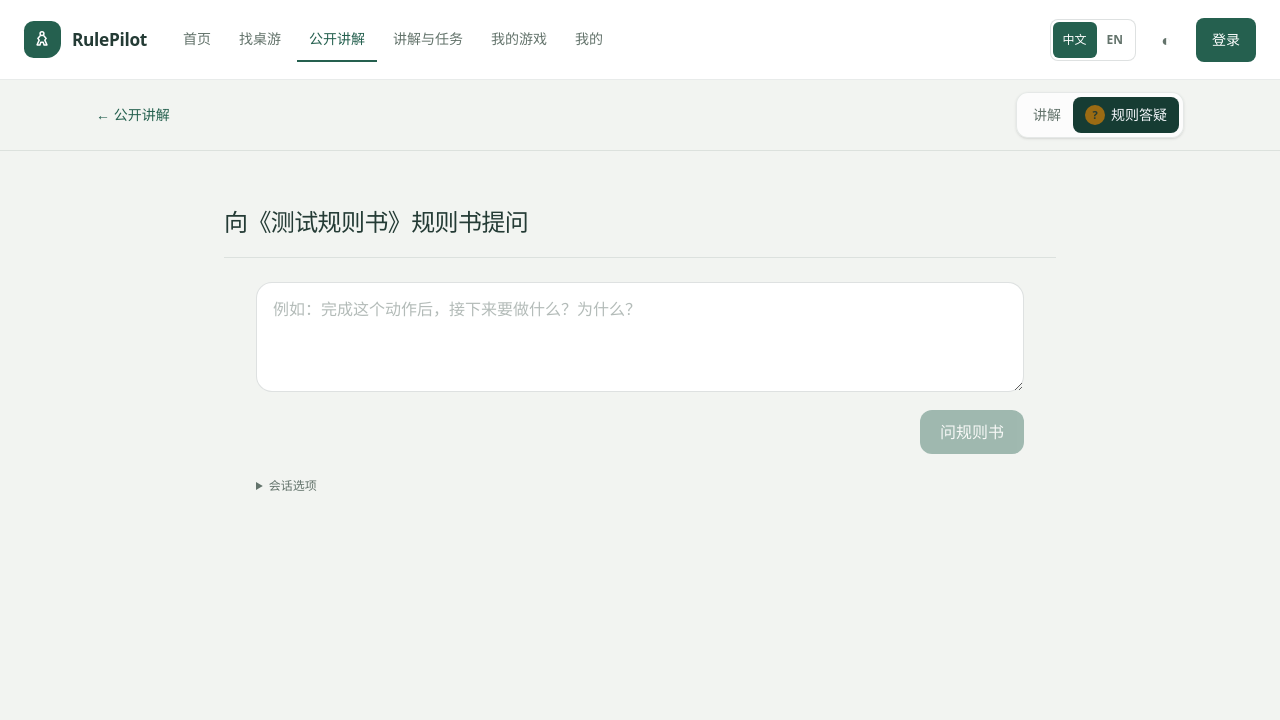
PublicLessonView failure visibility › shows a service transport stop as retry-preserved with its backend code
Type "什么时候结算？" into the text box with placeholder "例如：完成这个动作后，接下来要做什么？为什么？" at point(640, 337), box x1=256 y1=282 x2=1024 y2=392
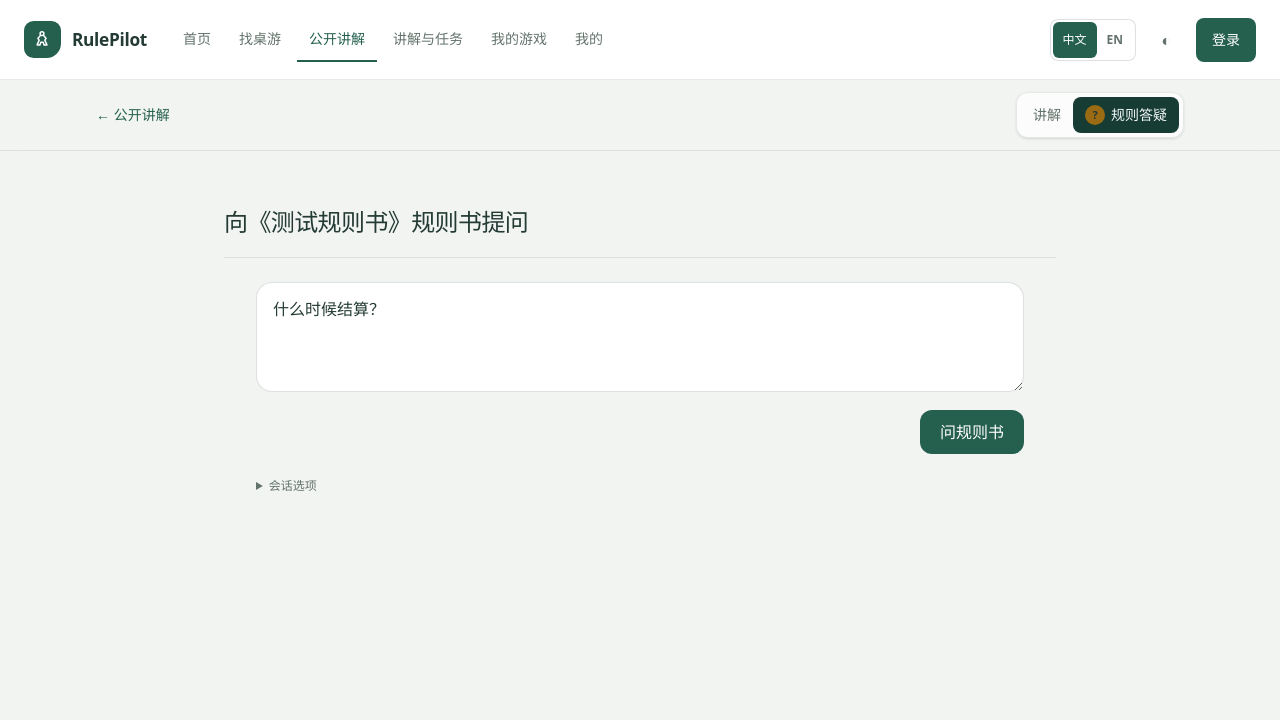
Submit the form, box x1=256 y1=282 x2=1024 y2=454
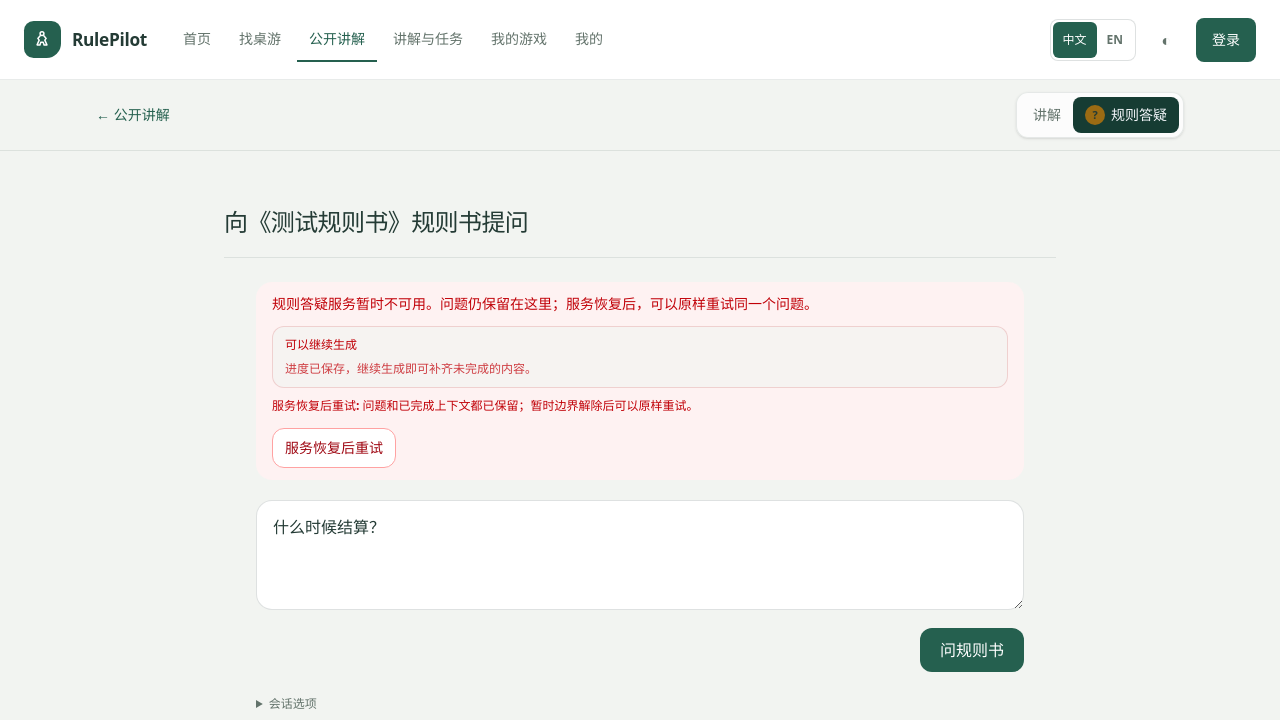
Expected: the button with test id "public-answer-failure-retry-unchanged" is shown, x1=272 y1=428 x2=396 y2=468
